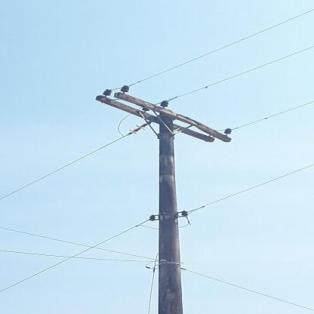Poste: (151, 110, 186, 314)
